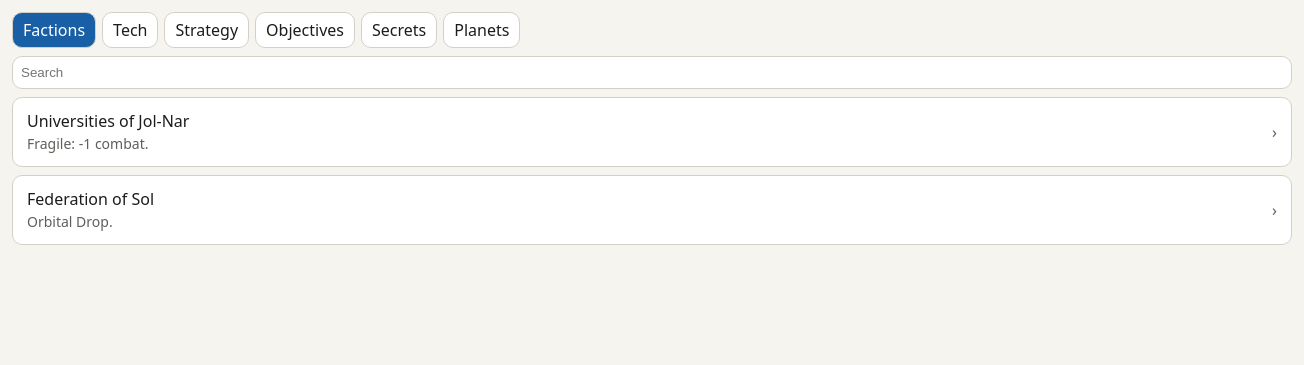
Test: ReferenceBrowser › groups the secrets tab by scoring phase
What coordinates should you click on to do the following:
click the button "Secrets"
I would click on:
 (399, 30)
Its box is [361,12,437,48].
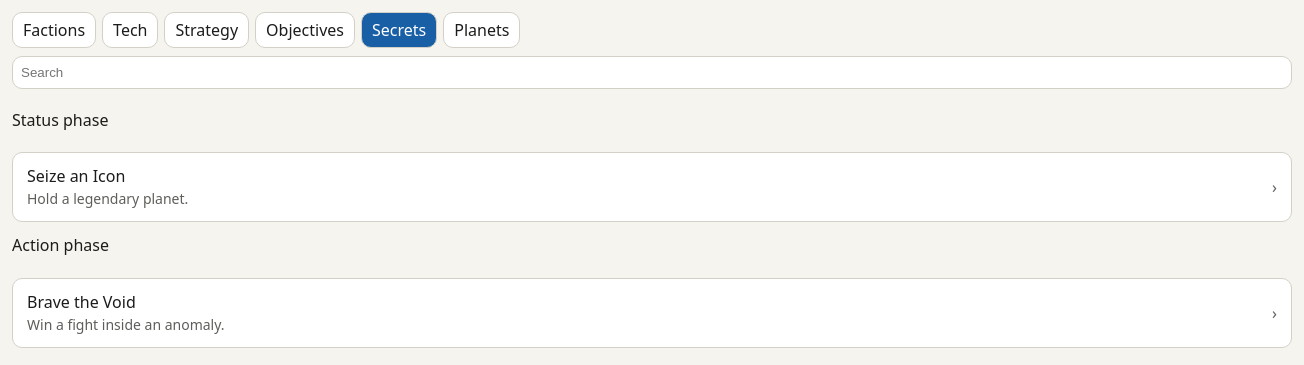
Check: the heading "Status phase" is shown, box [12,109,108,131]
Check: the heading "Action phase" is shown, box [12,234,109,256]
Check: the text "Seize an Icon" is shown, box [27,165,125,187]
